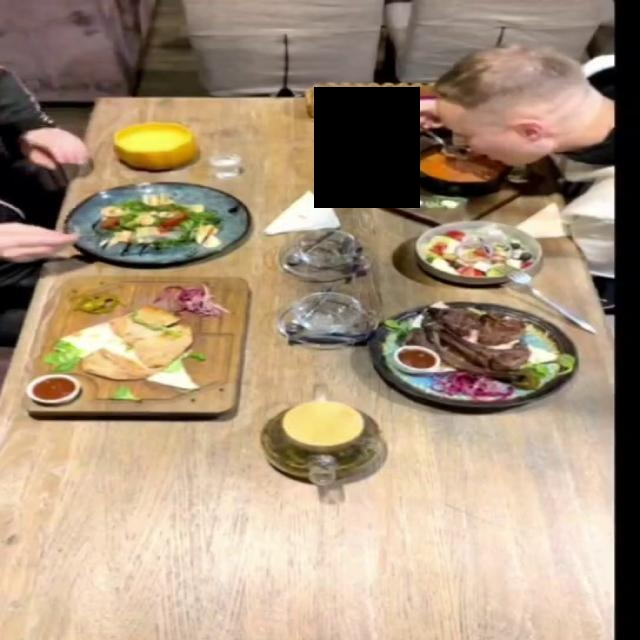meat: (18, 279, 248, 417), (366, 300, 579, 408)
salad: (60, 181, 247, 265), (414, 220, 544, 285)
soup: (324, 136, 554, 226), (111, 121, 197, 170)
tea: (247, 376, 397, 510)
